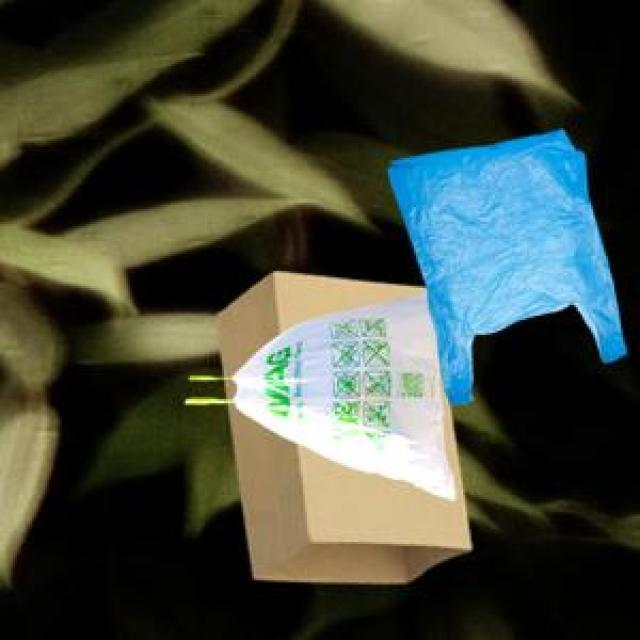paper: (211, 269, 467, 578)
